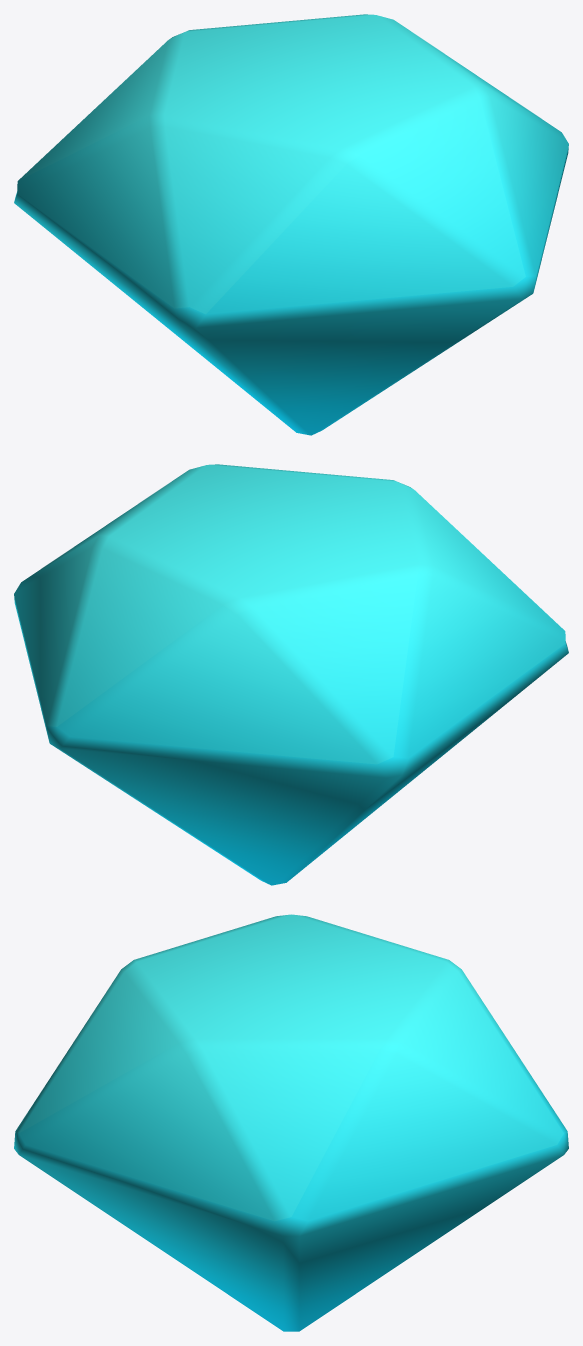
The model's file is Collectible_Diamond_01.fbx.
The picture shows the model from 3 angles, top to bottom: view 1: azimuth 30°, elevation 25°; view 2: azimuth 150°, elevation 25°; view 3: azimuth 270°, elevation 25°; orthographic projection. The views are drawn at different scales.
Parts seen in each view (by area): view 1: Collectible_Diamond_01; view 2: Collectible_Diamond_01; view 3: Collectible_Diamond_01.
Boxes of the visible parts, x1,y1,x2,y2 form: Collectible_Diamond_01: (14, 14, 568, 435); Collectible_Diamond_01: (14, 464, 568, 885); Collectible_Diamond_01: (14, 914, 568, 1331).
Size of the model in its own units: 105 by 75.28 by 110.
Materials: 1 (1 with a texture image).
